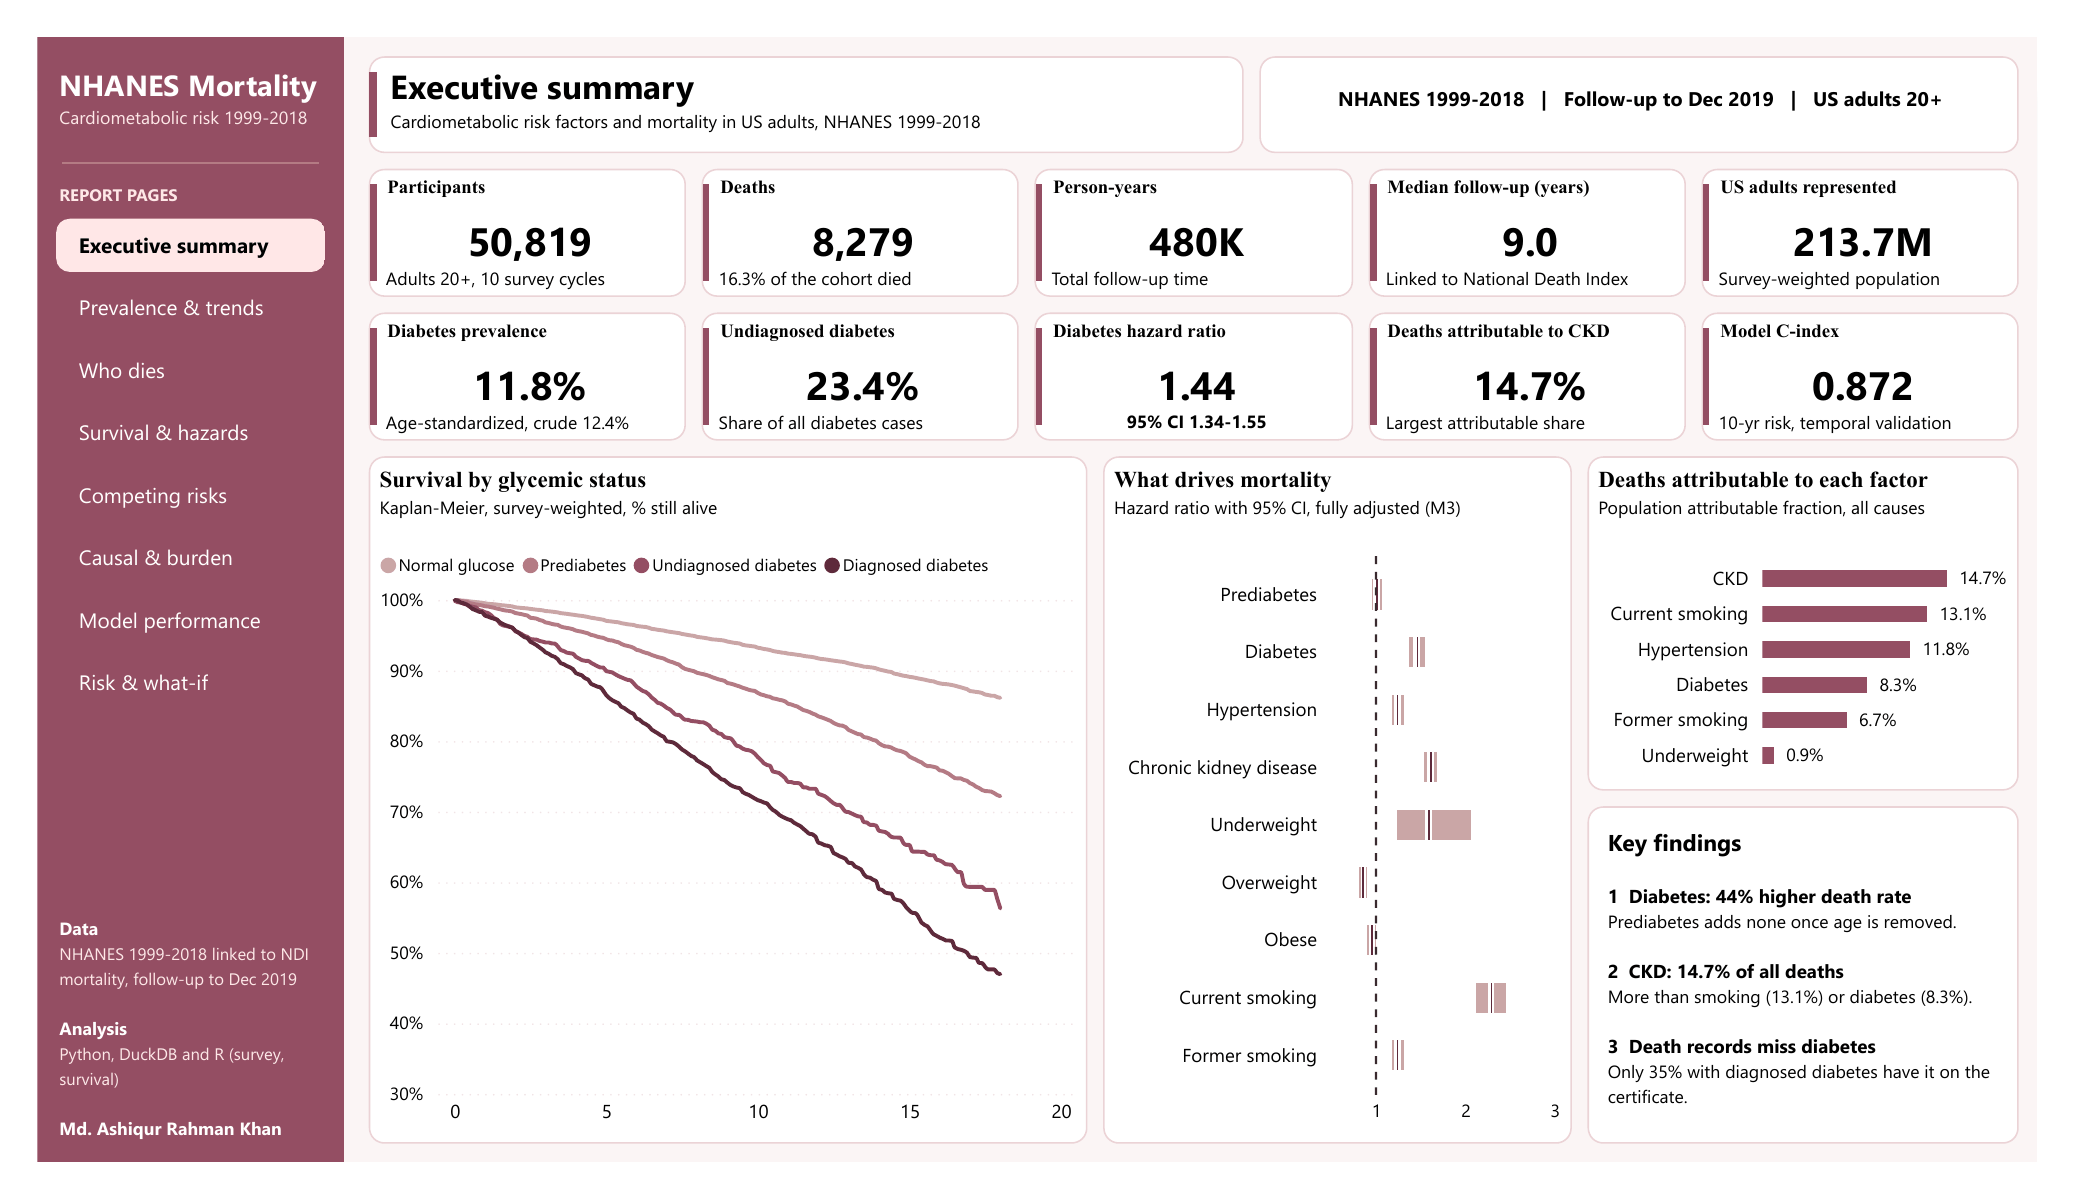

What the dashboard file says about the page in this screenshot:
{"tool":"powerbi","page":{"name":"Executive summary","canvas":[1280,720],"ordinal":0},"visuals":[{"type":"shape","box":[0,0,196,720],"z":1100},{"type":"textbox","box":[12,16,176,56],"z":1200},{"type":"shape","box":[16,80,164,1],"z":1300},{"type":"textbox","box":[12,90,176,22],"z":1400},{"type":"actionButton","box":[12,116,172,34],"z":1500},{"type":"actionButton","box":[12,156,172,34],"z":1600},{"type":"actionButton","box":[12,196,172,34],"z":1700},{"type":"actionButton","box":[12,236,172,34],"z":1800},{"type":"actionButton","box":[12,276,172,34],"z":1900},{"type":"actionButton","box":[12,316,172,34],"z":2000},{"type":"actionButton","box":[12,356,172,34],"z":2100},{"type":"actionButton","box":[12,396,172,34],"z":2200},{"type":"textbox","box":[12,560,176,150],"z":2300},{"type":"shape","box":[212,12,560,62],"z":2400},{"type":"shape","box":[212,22,5,42],"z":2500},{"type":"textbox","box":[224,15,542,56],"z":2600},{"type":"shape","box":[782,12,486,62],"z":2700},{"type":"textbox","box":[794,22,464,42],"z":2800},{"type":"shape","box":[212,84,203.2,82],"z":2900},{"type":"shape","box":[213,94,4,62],"z":3000},{"type":"card","title":"Participants","fields":{"Values":["_Measures.KPI Participants"]},"box":[222,87,187.2,60],"z":3100},{"type":"textbox","box":[222,145,187.2,19],"z":3200},{"type":"shape","box":[425.2,84,203.2,82],"z":3300},{"type":"shape","box":[426.2,94,4,62],"z":3400},{"type":"card","title":"Deaths","fields":{"Values":["_Measures.KPI Deaths"]},"box":[435.2,87,187.2,60],"z":3500},{"type":"textbox","box":[435.2,145,187.2,19],"z":3600},{"type":"shape","box":[638.4,84,203.2,82],"z":3700},{"type":"shape","box":[639.4,94,4,62],"z":3800},{"type":"card","title":"Person-years","fields":{"Values":["_Measures.KPI Person-Years (K)"]},"box":[648.4,87,187.2,60],"z":3900},{"type":"textbox","box":[648.4,145,187.2,19],"z":4000},{"type":"shape","box":[851.6,84,203.2,82],"z":4100},{"type":"shape","box":[852.6,94,4,62],"z":4200},{"type":"card","title":"Median follow-up (years)","fields":{"Values":["_Measures.KPI Median Follow-up"]},"box":[861.6,87,187.2,60],"z":4300},{"type":"textbox","box":[861.6,145,187.2,19],"z":4400},{"type":"shape","box":[1064.8,84,203.2,82],"z":4500},{"type":"shape","box":[1065.8,94,4,62],"z":4600},{"type":"card","title":"US adults represented","fields":{"Values":["_Measures.KPI US Adults (M)"]},"box":[1074.8,87,187.2,60],"z":4700},{"type":"textbox","box":[1074.8,145,187.2,19],"z":4800},{"type":"shape","box":[212,176,203.2,82],"z":4900},{"type":"shape","box":[213,186,4,62],"z":5000},{"type":"card","title":"Diabetes prevalence","fields":{"Values":["_Measures.KPI Diabetes Prevalence"]},"box":[222,179,187.2,60],"z":5100},{"type":"textbox","box":[222,237,187.2,19],"z":5200},{"type":"shape","box":[425.2,176,203.2,82],"z":5300},{"type":"shape","box":[426.2,186,4,62],"z":5400},{"type":"card","title":"Undiagnosed diabetes","fields":{"Values":["_Measures.KPI Undiagnosed Share"]},"box":[435.2,179,187.2,60],"z":5500},{"type":"textbox","box":[435.2,237,187.2,19],"z":5600},{"type":"shape","box":[638.4,176,203.2,82],"z":5700},{"type":"shape","box":[639.4,186,4,62],"z":5800},{"type":"card","title":"Diabetes hazard ratio","fields":{"Values":["_Measures.KPI Diabetes HR"]},"box":[648.4,179,187.2,60],"z":5900},{"type":"card","fields":{"Values":["_Measures.KPI Diabetes HR CI"]},"box":[648.4,237,187.2,19],"z":6000},{"type":"shape","box":[851.6,176,203.2,82],"z":6100},{"type":"shape","box":[852.6,186,4,62],"z":6200},{"type":"card","title":"Deaths attributable to CKD","fields":{"Values":["_Measures.KPI CKD Attributable"]},"box":[861.6,179,187.2,60],"z":6300},{"type":"textbox","box":[861.6,237,187.2,19],"z":6400},{"type":"shape","box":[1064.8,176,203.2,82],"z":6500},{"type":"shape","box":[1065.8,186,4,62],"z":6600},{"type":"card","title":"Model C-index","fields":{"Values":["_Measures.KPI Model C-index"]},"box":[1074.8,179,187.2,60],"z":6700},{"type":"textbox","box":[1074.8,237,187.2,19],"z":6800},{"type":"lineChart","title":"Survival by glycemic status","fields":{"Category":["stat_km_curves.time"],"Series":["dim_group_level.level_label"],"Y":["_Measures.KM Survival %"]},"box":[212,268,460,440],"z":6900},{"type":"barChart","title":"What drives mortality","fields":{"Category":["stat_hr_full_model.Term Label"],"Y":["_Measures.FP Full Model Start","_Measures.FP Full Model Low","_Measures.FP Full Model Point","_Measures.FP Full Model High"]},"box":[682,268,300,440],"z":7000},{"type":"clusteredBarChart","title":"Deaths attributable to each factor","fields":{"Category":["stat_paf.Risk Factor"],"Y":["_Measures.PAF %"]},"box":[992,268,276,214],"z":7100},{"type":"textbox","box":[992,492,276,216],"z":7200}]}

Visuals, with their boxes on the page's 1280x720 design canvas (x1, y1, x2, y2). These are canvas units, not pixel positions in the 2075x1200 screenshot, which may show the page scaled, cropped or inside an application window:
shape: left=0, top=0, right=196, bottom=720
textbox: left=12, top=16, right=188, bottom=72
shape: left=16, top=80, right=180, bottom=81
textbox: left=12, top=90, right=188, bottom=112
actionButton: left=12, top=116, right=184, bottom=150
actionButton: left=12, top=156, right=184, bottom=190
actionButton: left=12, top=196, right=184, bottom=230
actionButton: left=12, top=236, right=184, bottom=270
actionButton: left=12, top=276, right=184, bottom=310
actionButton: left=12, top=316, right=184, bottom=350
actionButton: left=12, top=356, right=184, bottom=390
actionButton: left=12, top=396, right=184, bottom=430
textbox: left=12, top=560, right=188, bottom=710
shape: left=212, top=12, right=772, bottom=74
shape: left=212, top=22, right=217, bottom=64
textbox: left=224, top=15, right=766, bottom=71
shape: left=782, top=12, right=1268, bottom=74
textbox: left=794, top=22, right=1258, bottom=64
shape: left=212, top=84, right=415, bottom=166
shape: left=213, top=94, right=217, bottom=156
"Participants" card: left=222, top=87, right=409, bottom=147
textbox: left=222, top=145, right=409, bottom=164
shape: left=425, top=84, right=628, bottom=166
shape: left=426, top=94, right=430, bottom=156
"Deaths" card: left=435, top=87, right=622, bottom=147
textbox: left=435, top=145, right=622, bottom=164
shape: left=638, top=84, right=842, bottom=166
shape: left=639, top=94, right=643, bottom=156
"Person-years" card: left=648, top=87, right=836, bottom=147
textbox: left=648, top=145, right=836, bottom=164
shape: left=852, top=84, right=1055, bottom=166
shape: left=853, top=94, right=857, bottom=156
"Median follow-up (years)" card: left=862, top=87, right=1049, bottom=147
textbox: left=862, top=145, right=1049, bottom=164
shape: left=1065, top=84, right=1268, bottom=166
shape: left=1066, top=94, right=1070, bottom=156
"US adults represented" card: left=1075, top=87, right=1262, bottom=147
textbox: left=1075, top=145, right=1262, bottom=164
shape: left=212, top=176, right=415, bottom=258
shape: left=213, top=186, right=217, bottom=248
"Diabetes prevalence" card: left=222, top=179, right=409, bottom=239
textbox: left=222, top=237, right=409, bottom=256
shape: left=425, top=176, right=628, bottom=258
shape: left=426, top=186, right=430, bottom=248
"Undiagnosed diabetes" card: left=435, top=179, right=622, bottom=239
textbox: left=435, top=237, right=622, bottom=256
shape: left=638, top=176, right=842, bottom=258
shape: left=639, top=186, right=643, bottom=248
"Diabetes hazard ratio" card: left=648, top=179, right=836, bottom=239
card - _Measures.KPI Diabetes HR CI: left=648, top=237, right=836, bottom=256
shape: left=852, top=176, right=1055, bottom=258
shape: left=853, top=186, right=857, bottom=248
"Deaths attributable to CKD" card: left=862, top=179, right=1049, bottom=239
textbox: left=862, top=237, right=1049, bottom=256
shape: left=1065, top=176, right=1268, bottom=258
shape: left=1066, top=186, right=1070, bottom=248
"Model C-index" card: left=1075, top=179, right=1262, bottom=239
textbox: left=1075, top=237, right=1262, bottom=256
"Survival by glycemic status" lineChart: left=212, top=268, right=672, bottom=708
"What drives mortality" barChart: left=682, top=268, right=982, bottom=708
"Deaths attributable to each factor" clusteredBarChart: left=992, top=268, right=1268, bottom=482
textbox: left=992, top=492, right=1268, bottom=708
